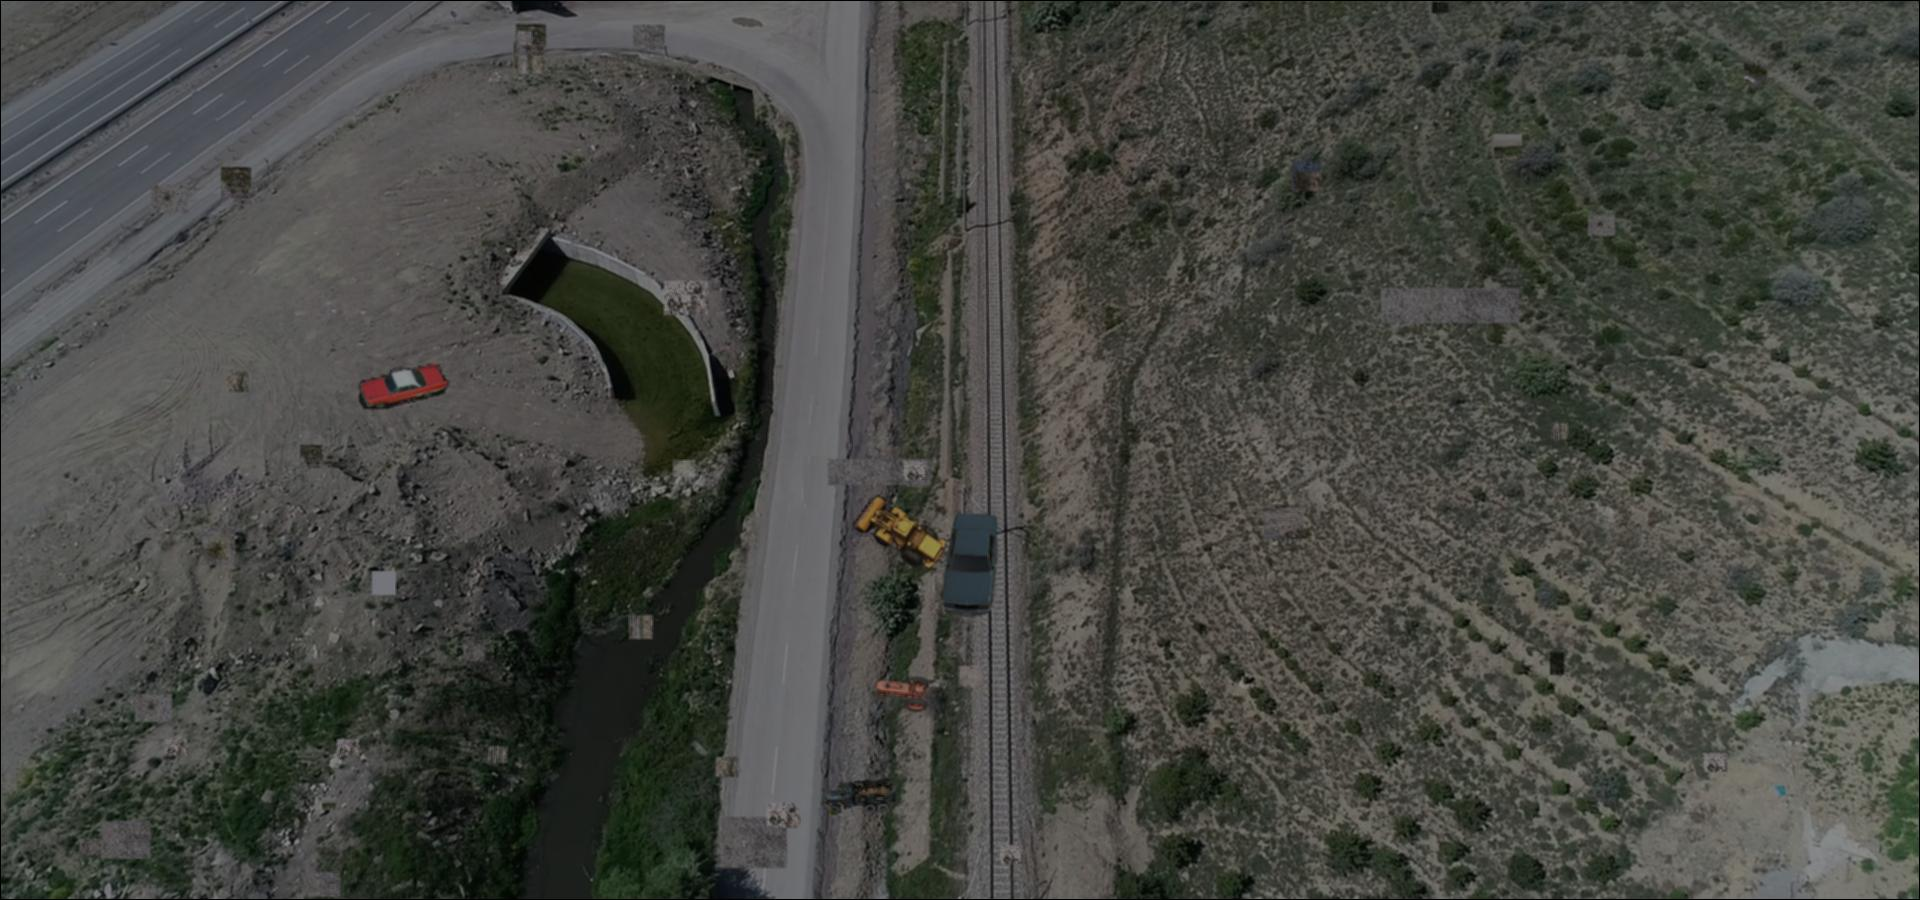arac: (851, 495, 953, 571), (943, 512, 1000, 617), (359, 364, 449, 409), (824, 778, 898, 816), (874, 675, 932, 711)
